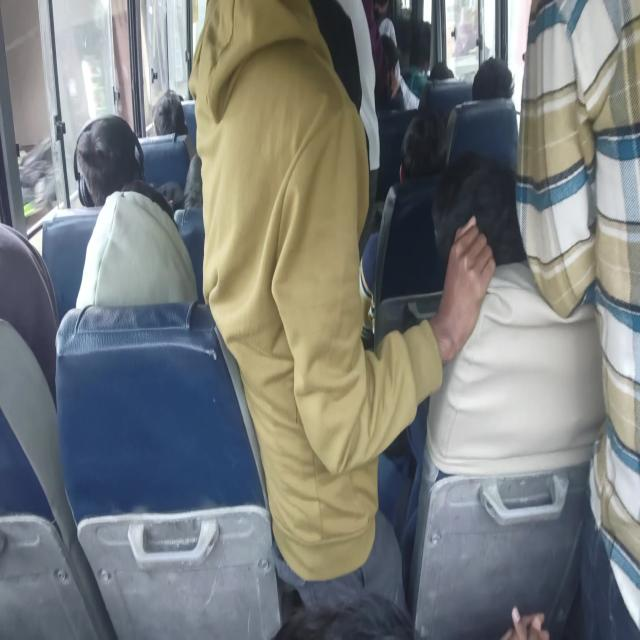person: (518, 0, 635, 615), (80, 205, 210, 399), (368, 108, 444, 328), (190, 0, 321, 126), (0, 221, 61, 414), (430, 152, 526, 274), (444, 55, 518, 162), (269, 592, 402, 640), (74, 118, 144, 202), (400, 111, 445, 185), (152, 89, 188, 139), (393, 9, 415, 73), (182, 154, 203, 210), (428, 60, 456, 82), (373, 0, 391, 19)
